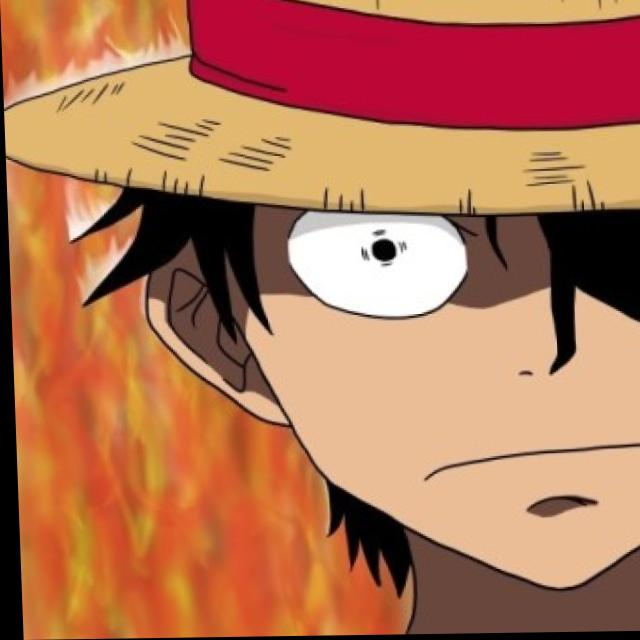Luffy: (0, 0, 640, 576)
